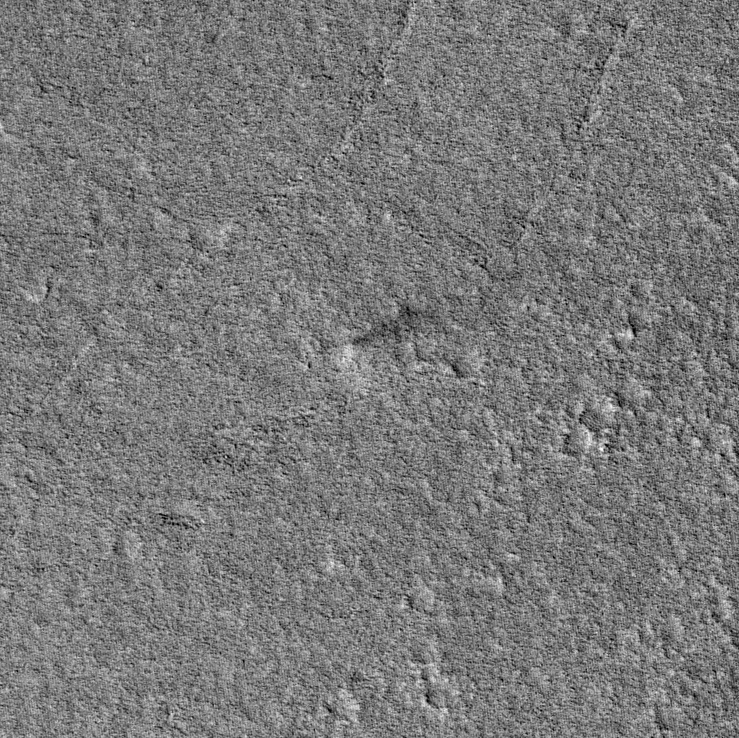dust_devil: (341, 302, 447, 362)
